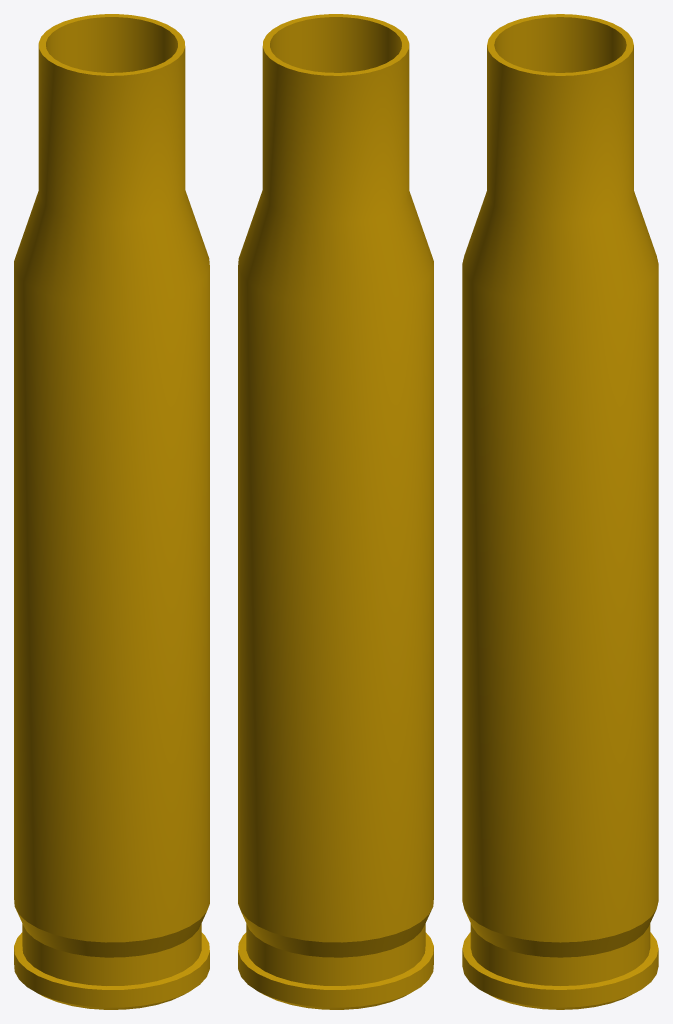
File: 50bmg_shell.fbx
The picture shows the model from 3 angles, left to right: view 1: azimuth 30°, elevation 25°; view 2: azimuth 150°, elevation 25°; view 3: azimuth 270°, elevation 25°; orthographic projection.
Visible parts, largest first — view 1: Cylinder; view 2: Cylinder; view 3: Cylinder.
Part boxes in pixels (box(x1,y1,x2,y2)): Cylinder: box(14, 14, 209, 1009); Cylinder: box(238, 14, 433, 1009); Cylinder: box(462, 14, 658, 1009).
Size of the model in its own units: 1.92 by 10.01 by 1.92.
